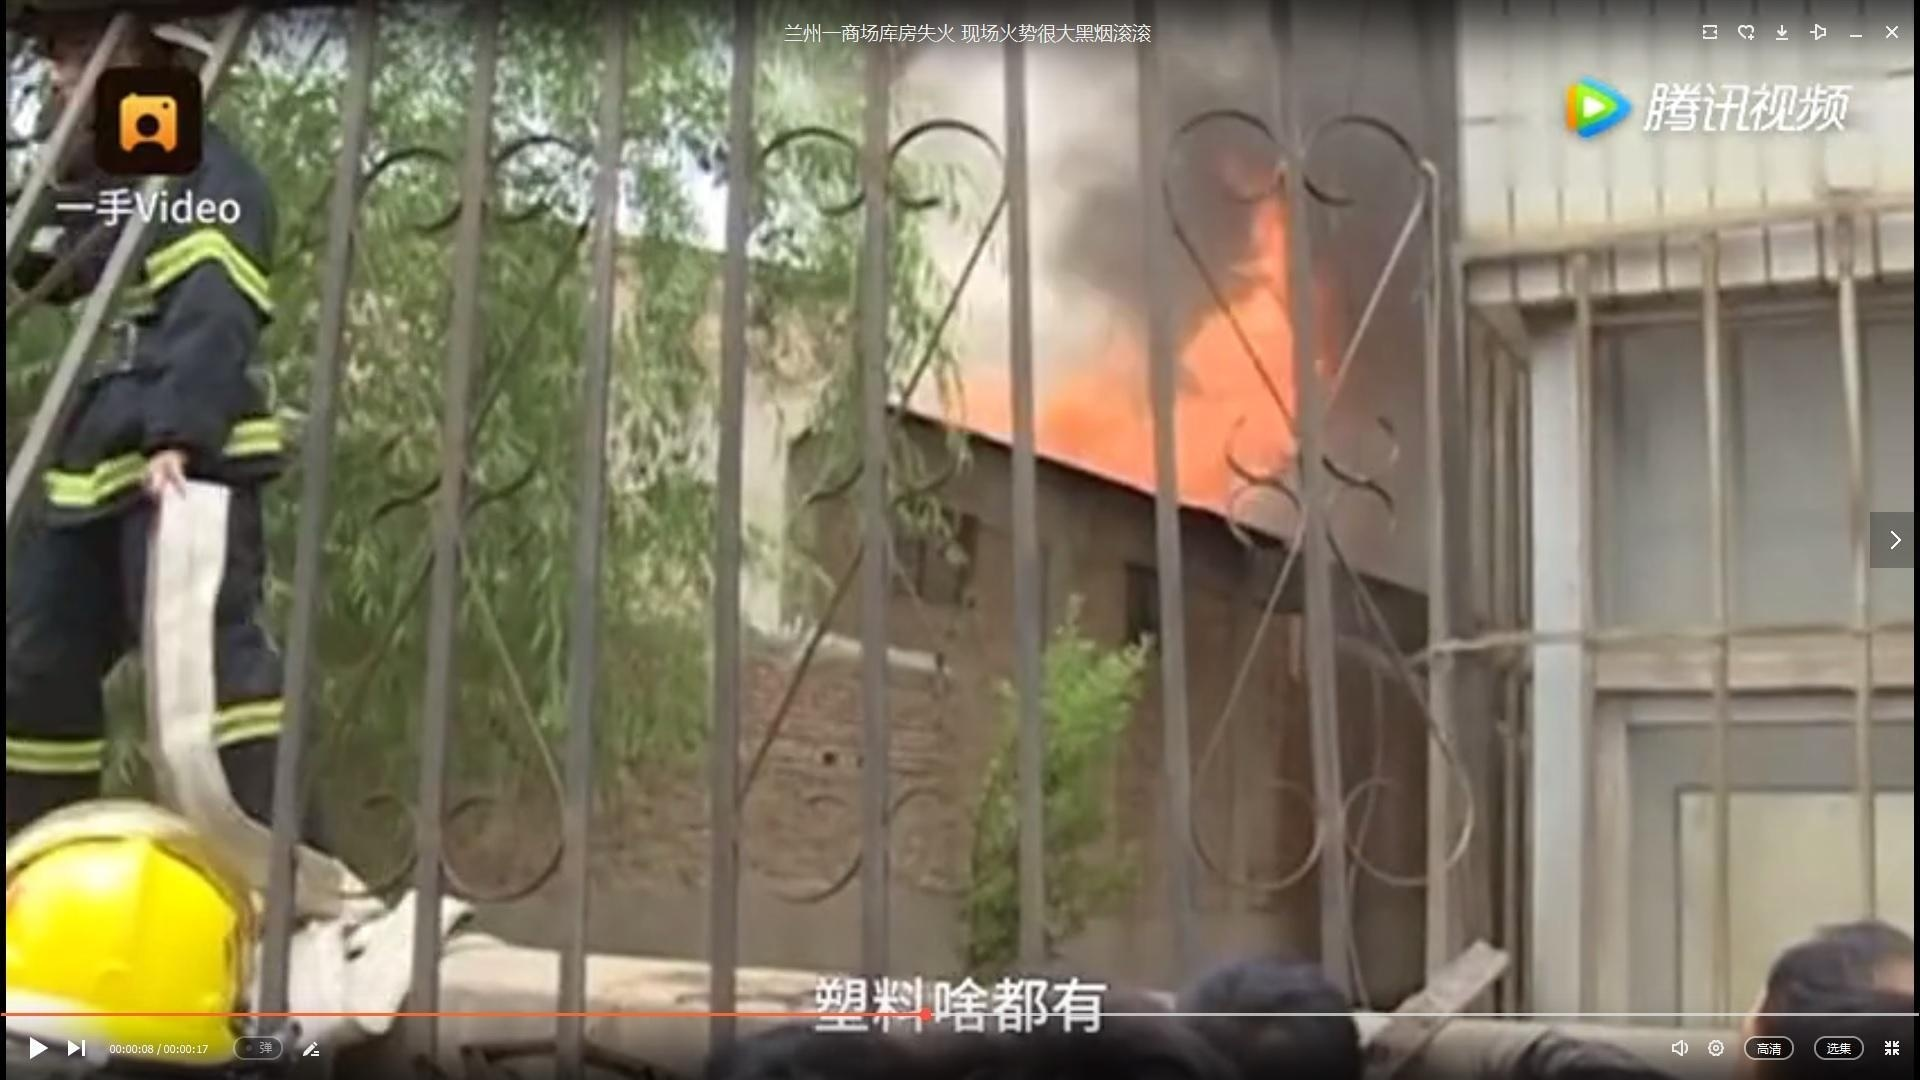fire: (1025, 186, 1320, 516)
